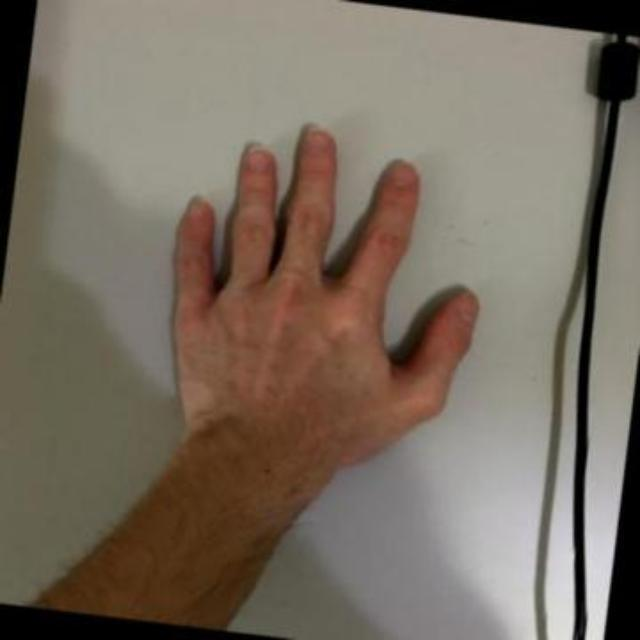bare_hand: (169, 120, 483, 455)
